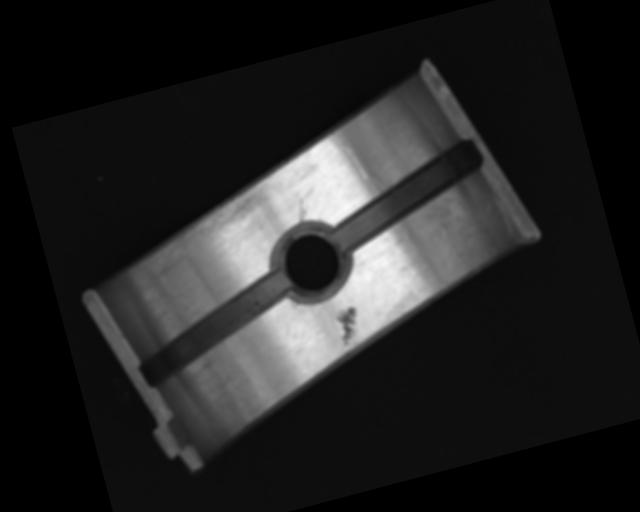bruise: (332, 304, 365, 347)
gap: (126, 269, 302, 388), (319, 137, 493, 251)
hole: (265, 212, 357, 305)
nick: (327, 126, 370, 188), (293, 197, 310, 224)
scratch: (128, 182, 276, 271)
